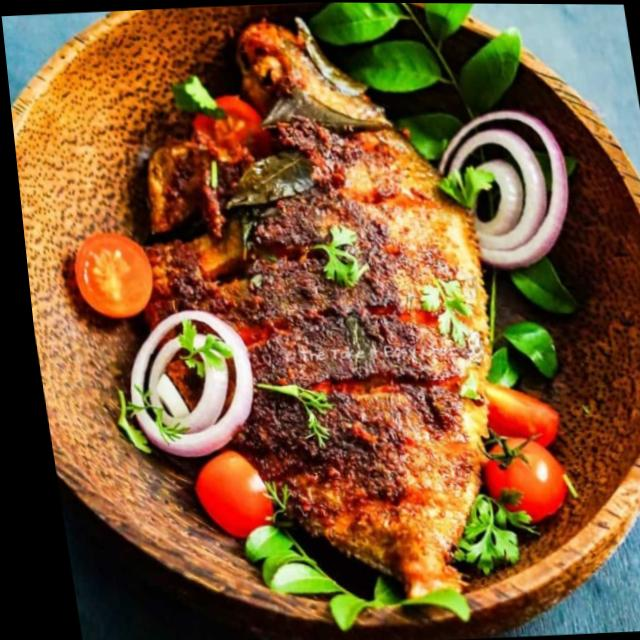FISH FRY: (149, 17, 491, 592)
